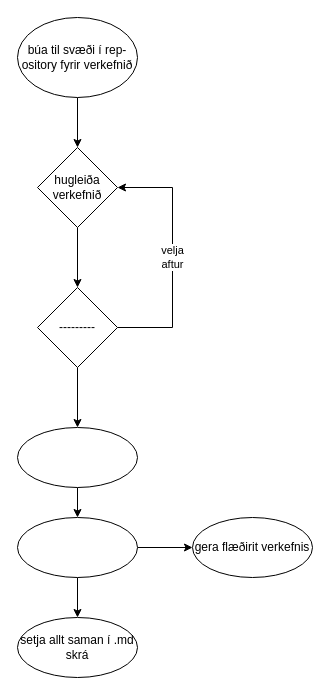
Image size: 330x695. Some labels were removed from this diagram. The shapes that lost their labels are listed below. From the top down, each one's centre as x and y in pixels, then its label:
At [77,457]: "hanna og teikna upp þraut".
At [77,547]: "Finna og skrá allar bjargir".
